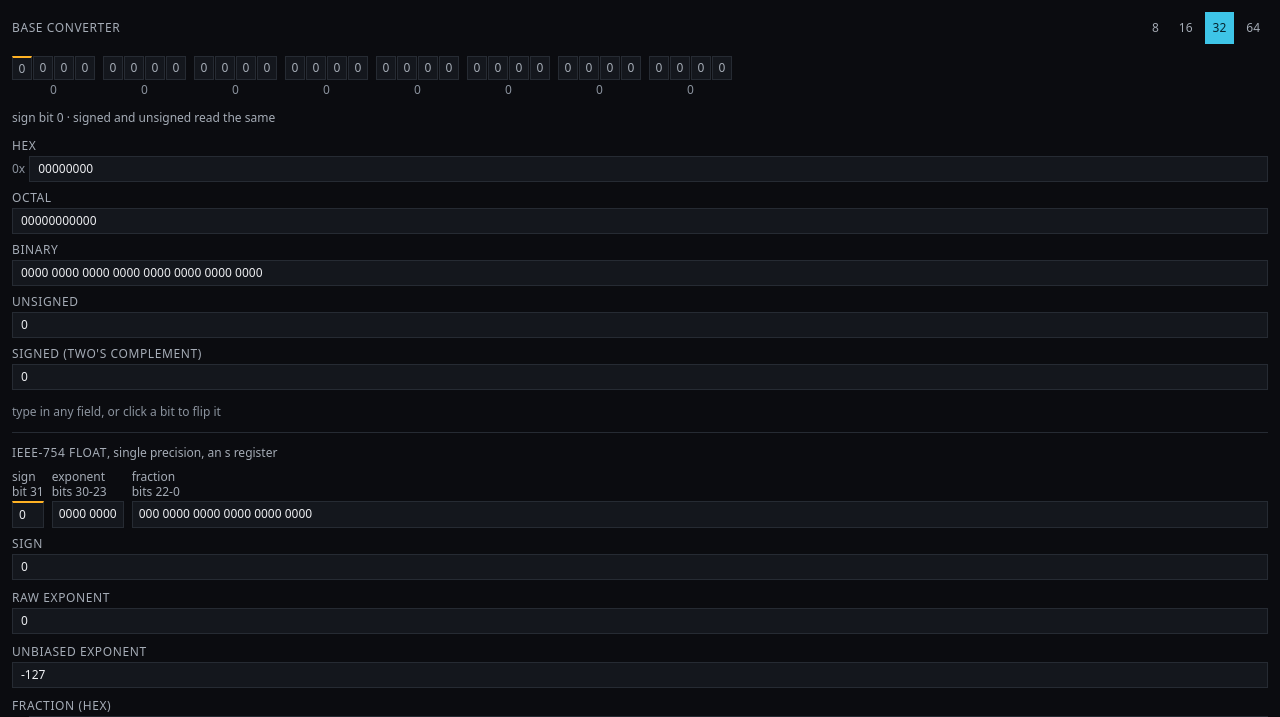
BaseConverter sync › typing hex updates binary, unsigned, signed, and the sign line
The image size is (1280, 717).
Click the button named "8 bits".
click(1155, 28)  # box [1144,12,1167,44]
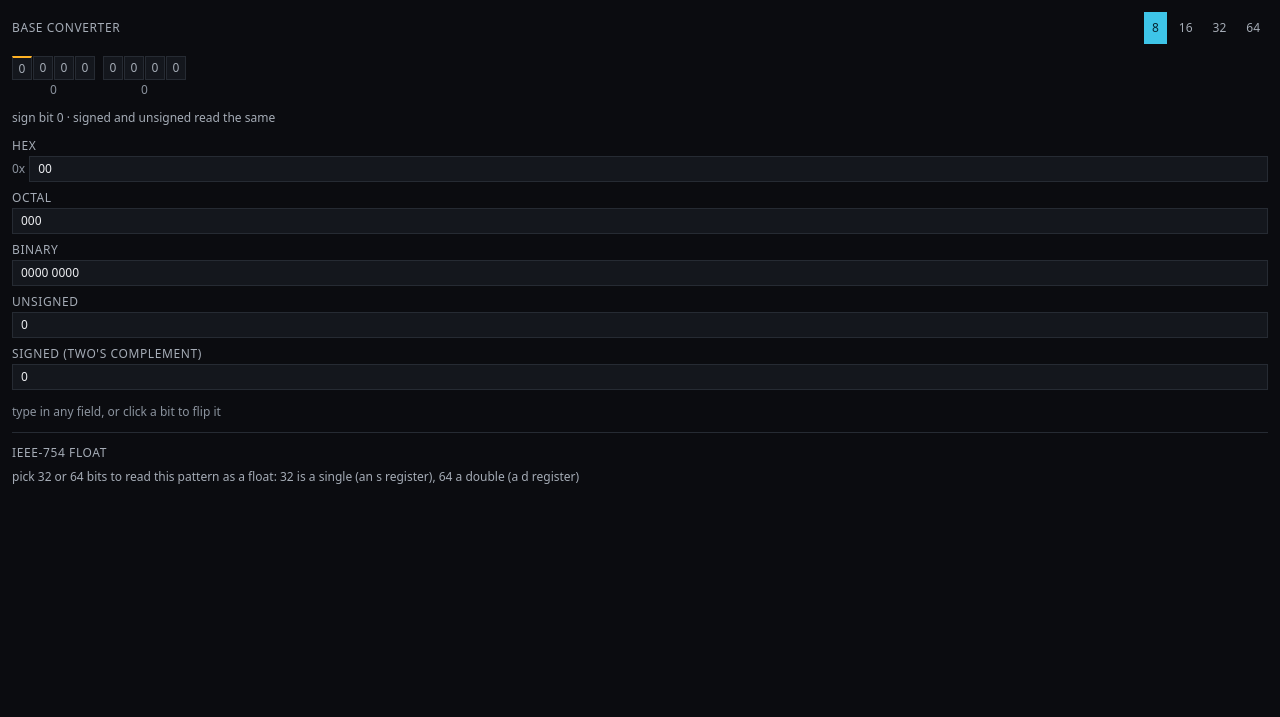
Replace the text in the field labelled "hex" with "ff" at coordinates (649, 169), box [29,156,1268,182]
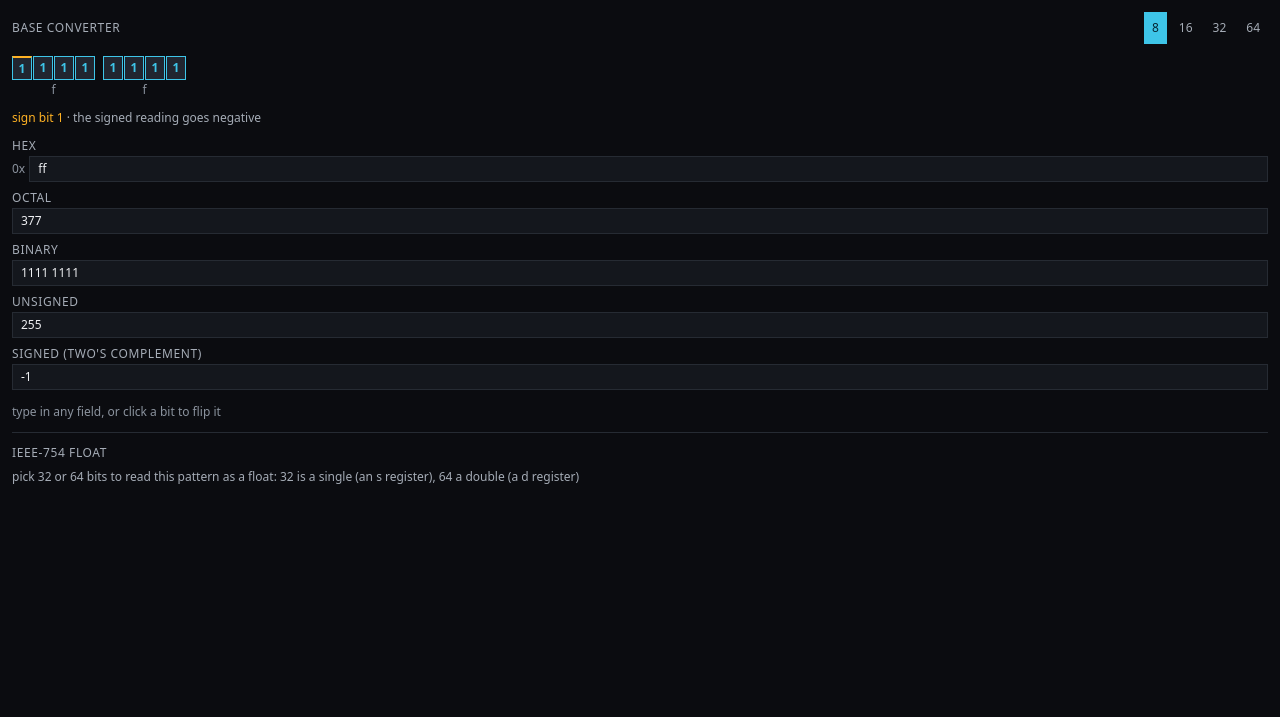
Check: the field labelled "binary" holds "1111 1111", box [12,260,1268,286]
Check: the field labelled "unsigned" holds "255", box [12,312,1268,338]
Check: the field labelled "signed (two's complement)" holds "-1", box [12,364,1268,390]
